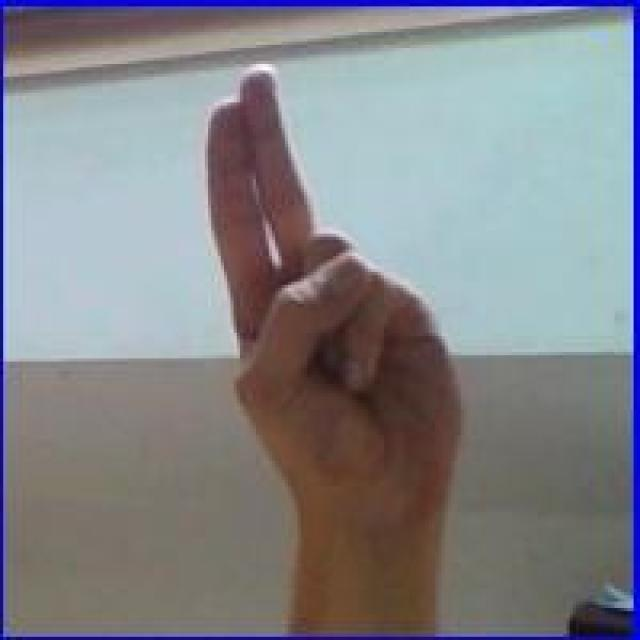U: (210, 40, 472, 539)
